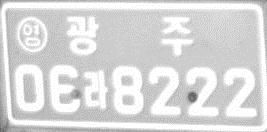0: (14, 63, 45, 112)
2: (222, 66, 259, 119), (185, 65, 220, 117), (147, 65, 182, 116)
6: (48, 63, 80, 114)
8: (110, 65, 144, 115)
광주_D: (65, 15, 192, 55)
라: (82, 68, 109, 110)
영: (15, 16, 49, 52)
